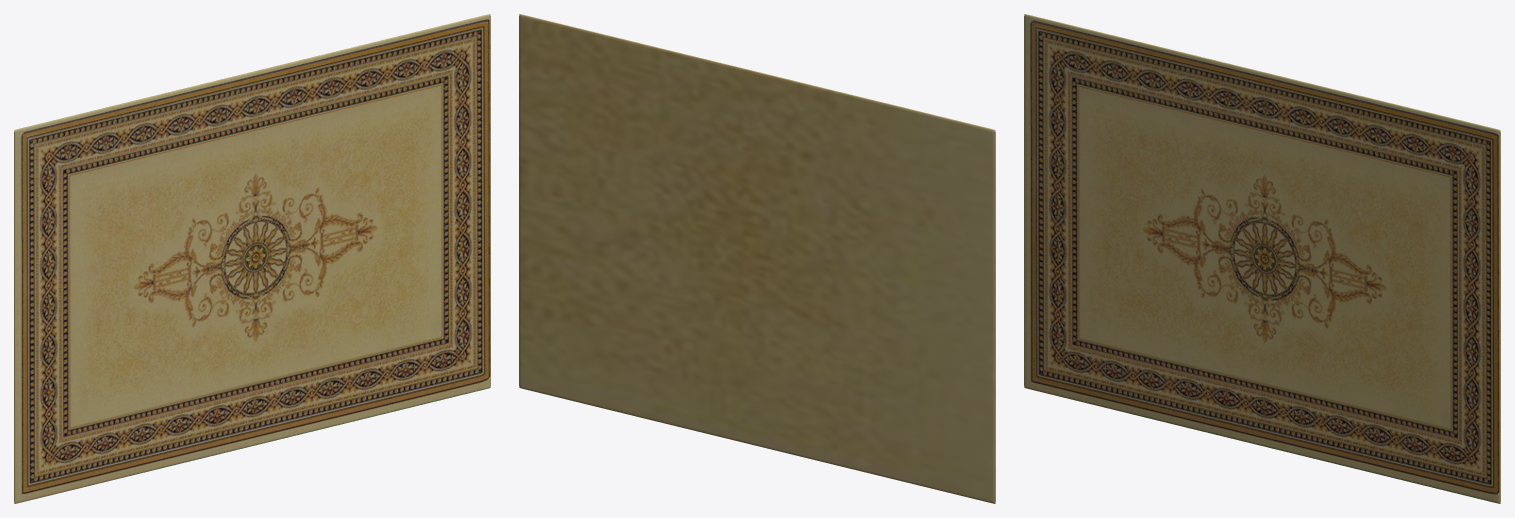
Rendered from carpet.glb.
3 views of the same model, side by side, from view 1: azimuth 30°, elevation 25°; view 2: azimuth 150°, elevation 25°; view 3: azimuth 330°, elevation 25° (orthographic).
Visible parts, largest first — view 1: Node1; view 2: Node1; view 3: Node1.
Boxes of the visible parts, box(x1,y1,x2,y2) form: Node1: box(14, 14, 490, 503); Node1: box(519, 14, 995, 503); Node1: box(1024, 14, 1500, 503).
Bounding box in the file's own units: 200 × 150 × 0.6884.
1 material, 1 textured.
